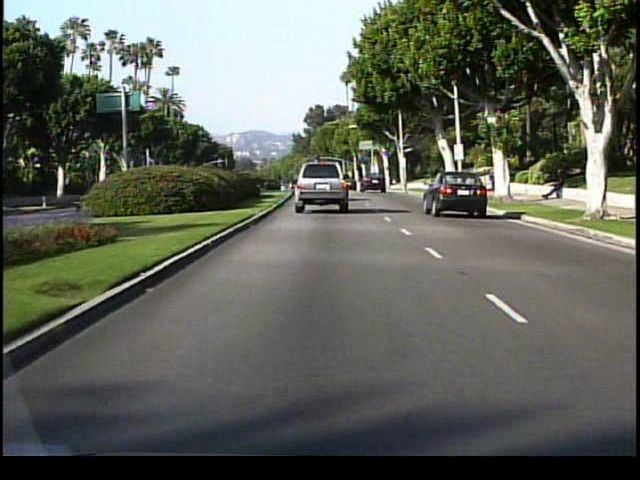person: (546, 163, 571, 204)
